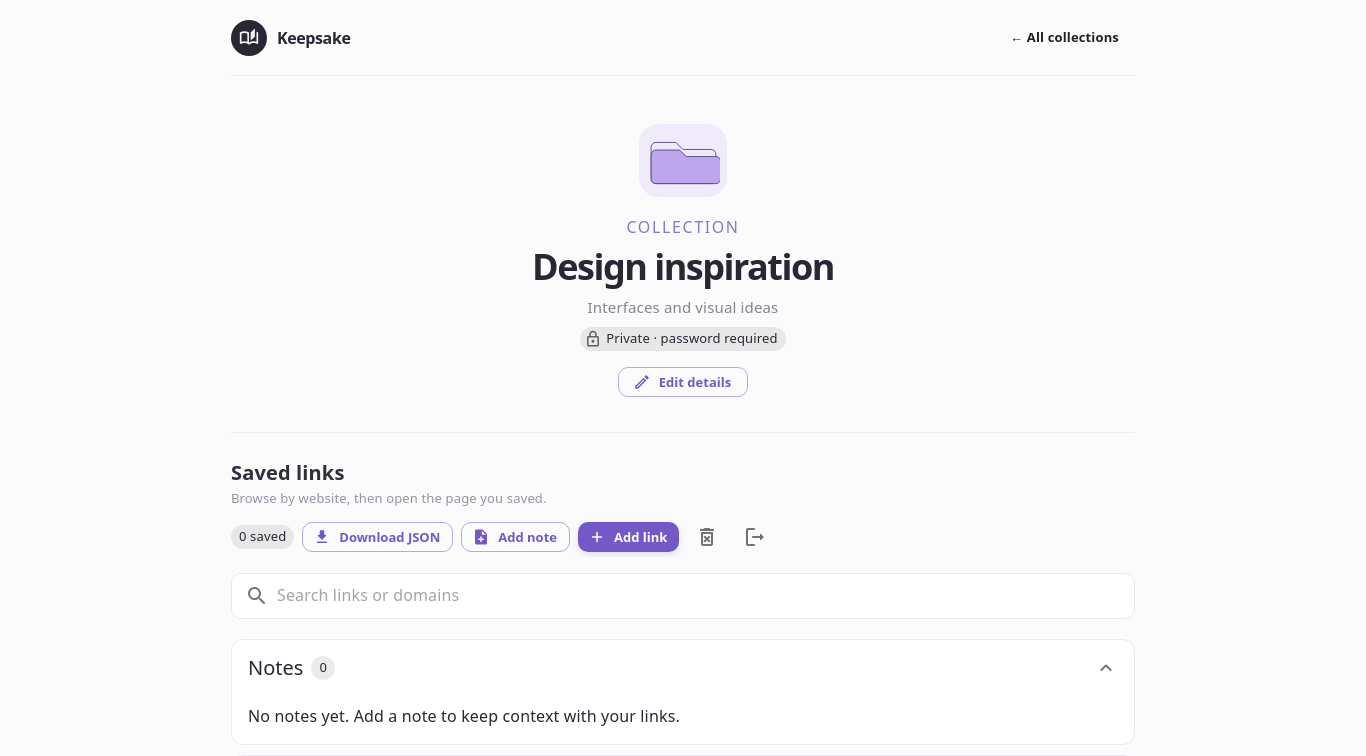
it: RepositoryDetailPage › edits a collection name and description through the session-protected API
The width and height of the screenshot is (1366, 756).
Click the button with aria-label "Edit collection". click: (683, 382)
box: left=618, top=367, right=748, bottom=398
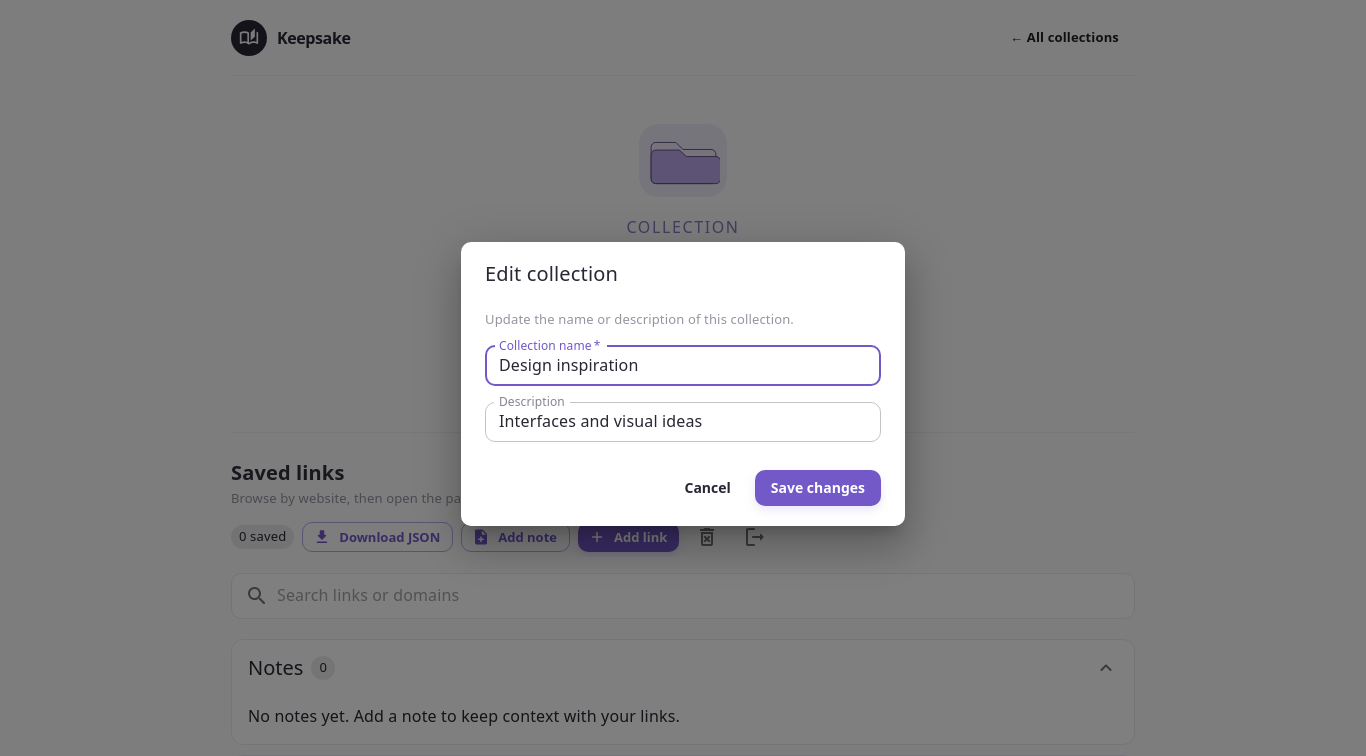
Expected: the field labelled "Collection name" holds "Design inspiration"
Expected: the field labelled "Description" holds "Interfaces and visual ideas", left=485, top=402, right=881, bottom=442
Replace the text in the field labelled "Collection name" with "Reading list". click: (683, 366)
box: left=485, top=346, right=881, bottom=386
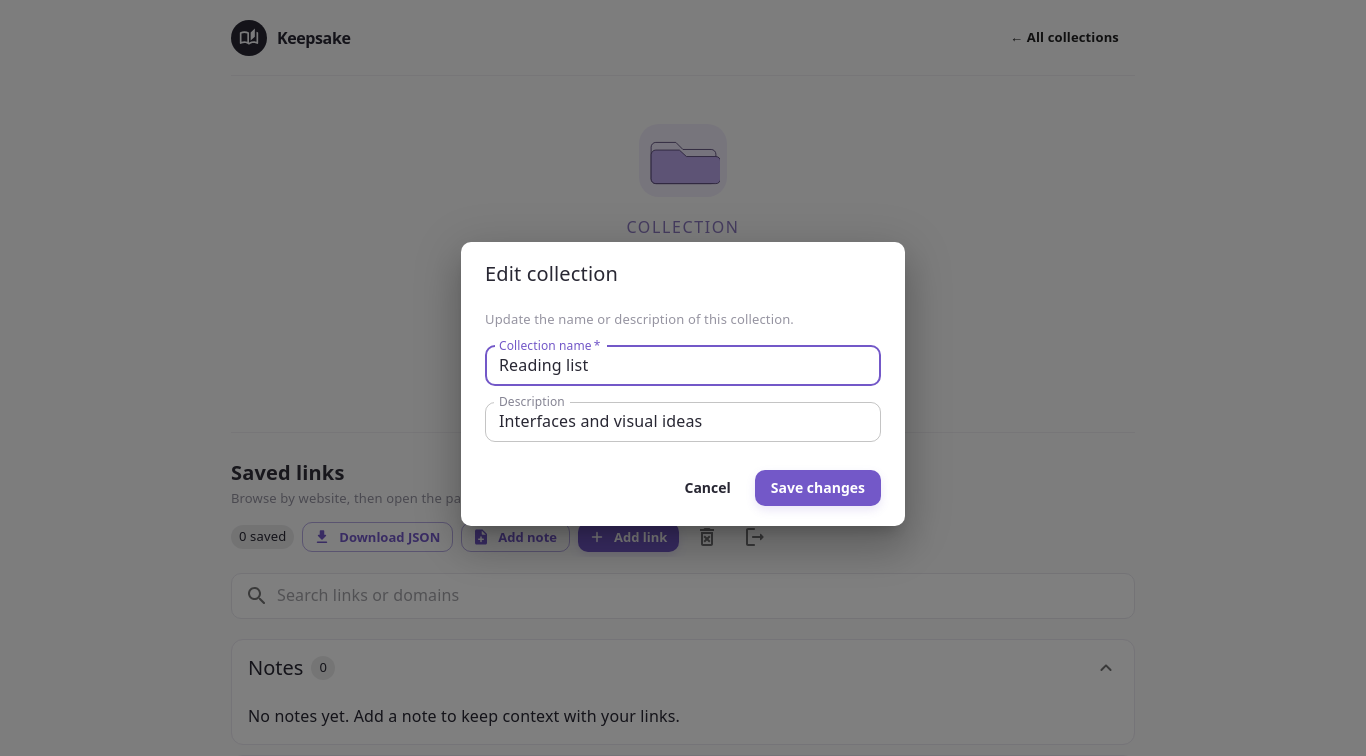
Replace the text in the field labelled "Description" with "Things to read later". click: (683, 422)
box: left=485, top=402, right=881, bottom=442
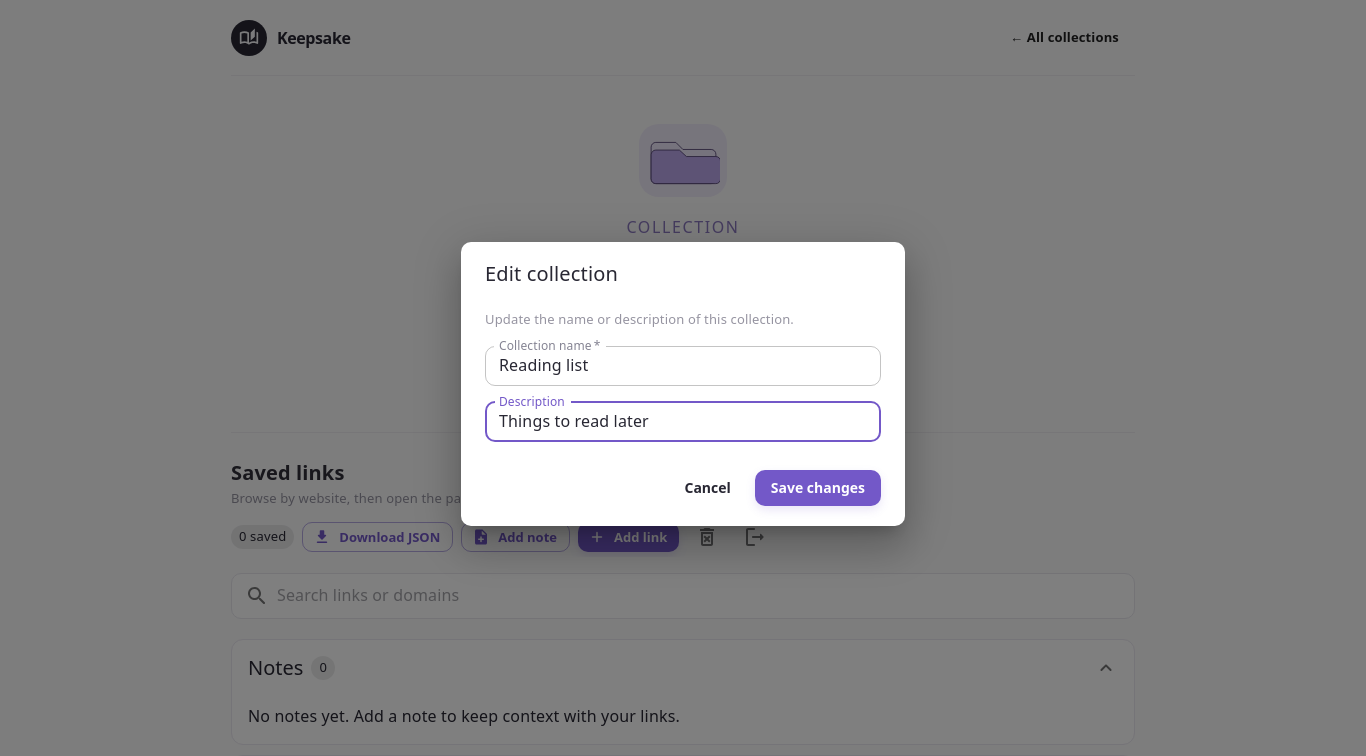
Click the button "Save changes". click: (818, 488)
box: left=755, top=470, right=881, bottom=506
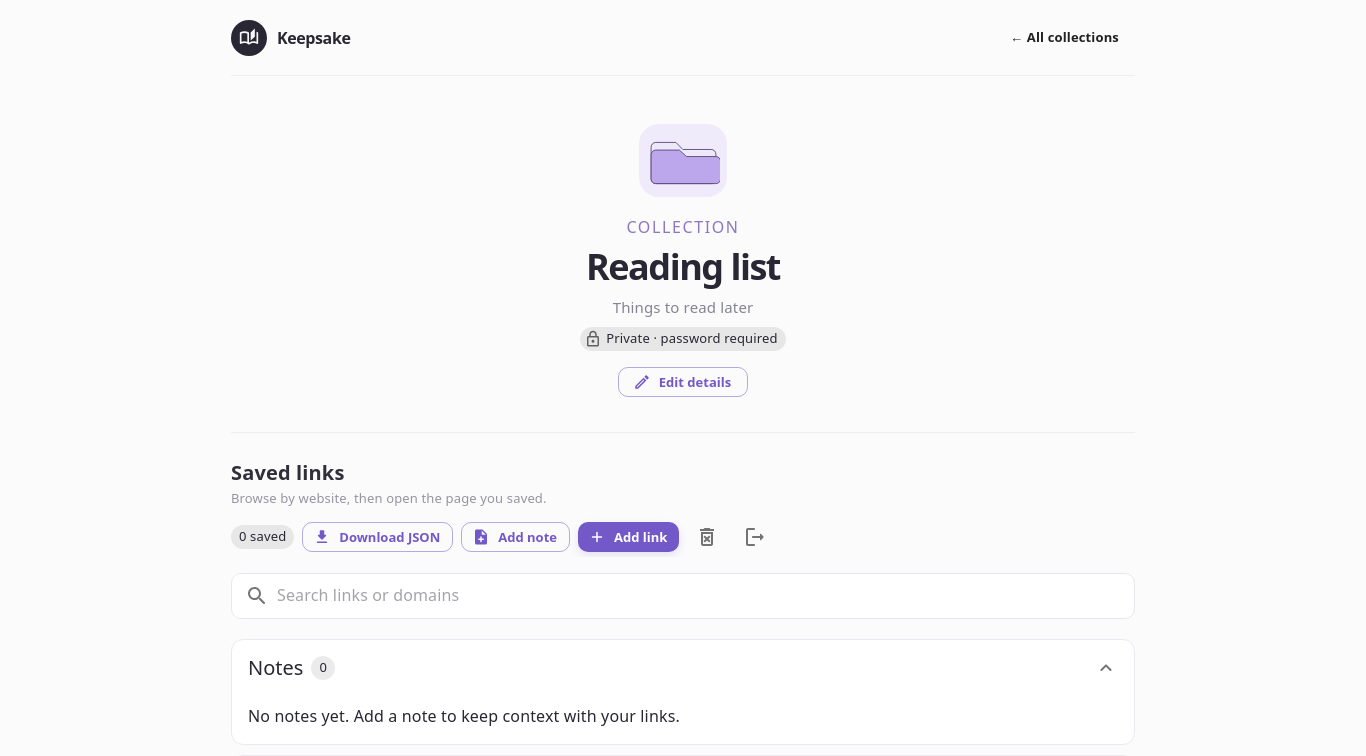
Expected: the heading "Reading list" is shown, left=586, top=242, right=780, bottom=291
Expected: the text "Things to read later" is shown, left=613, top=297, right=753, bottom=317
Expected: the heading "Edit collection" is gone
